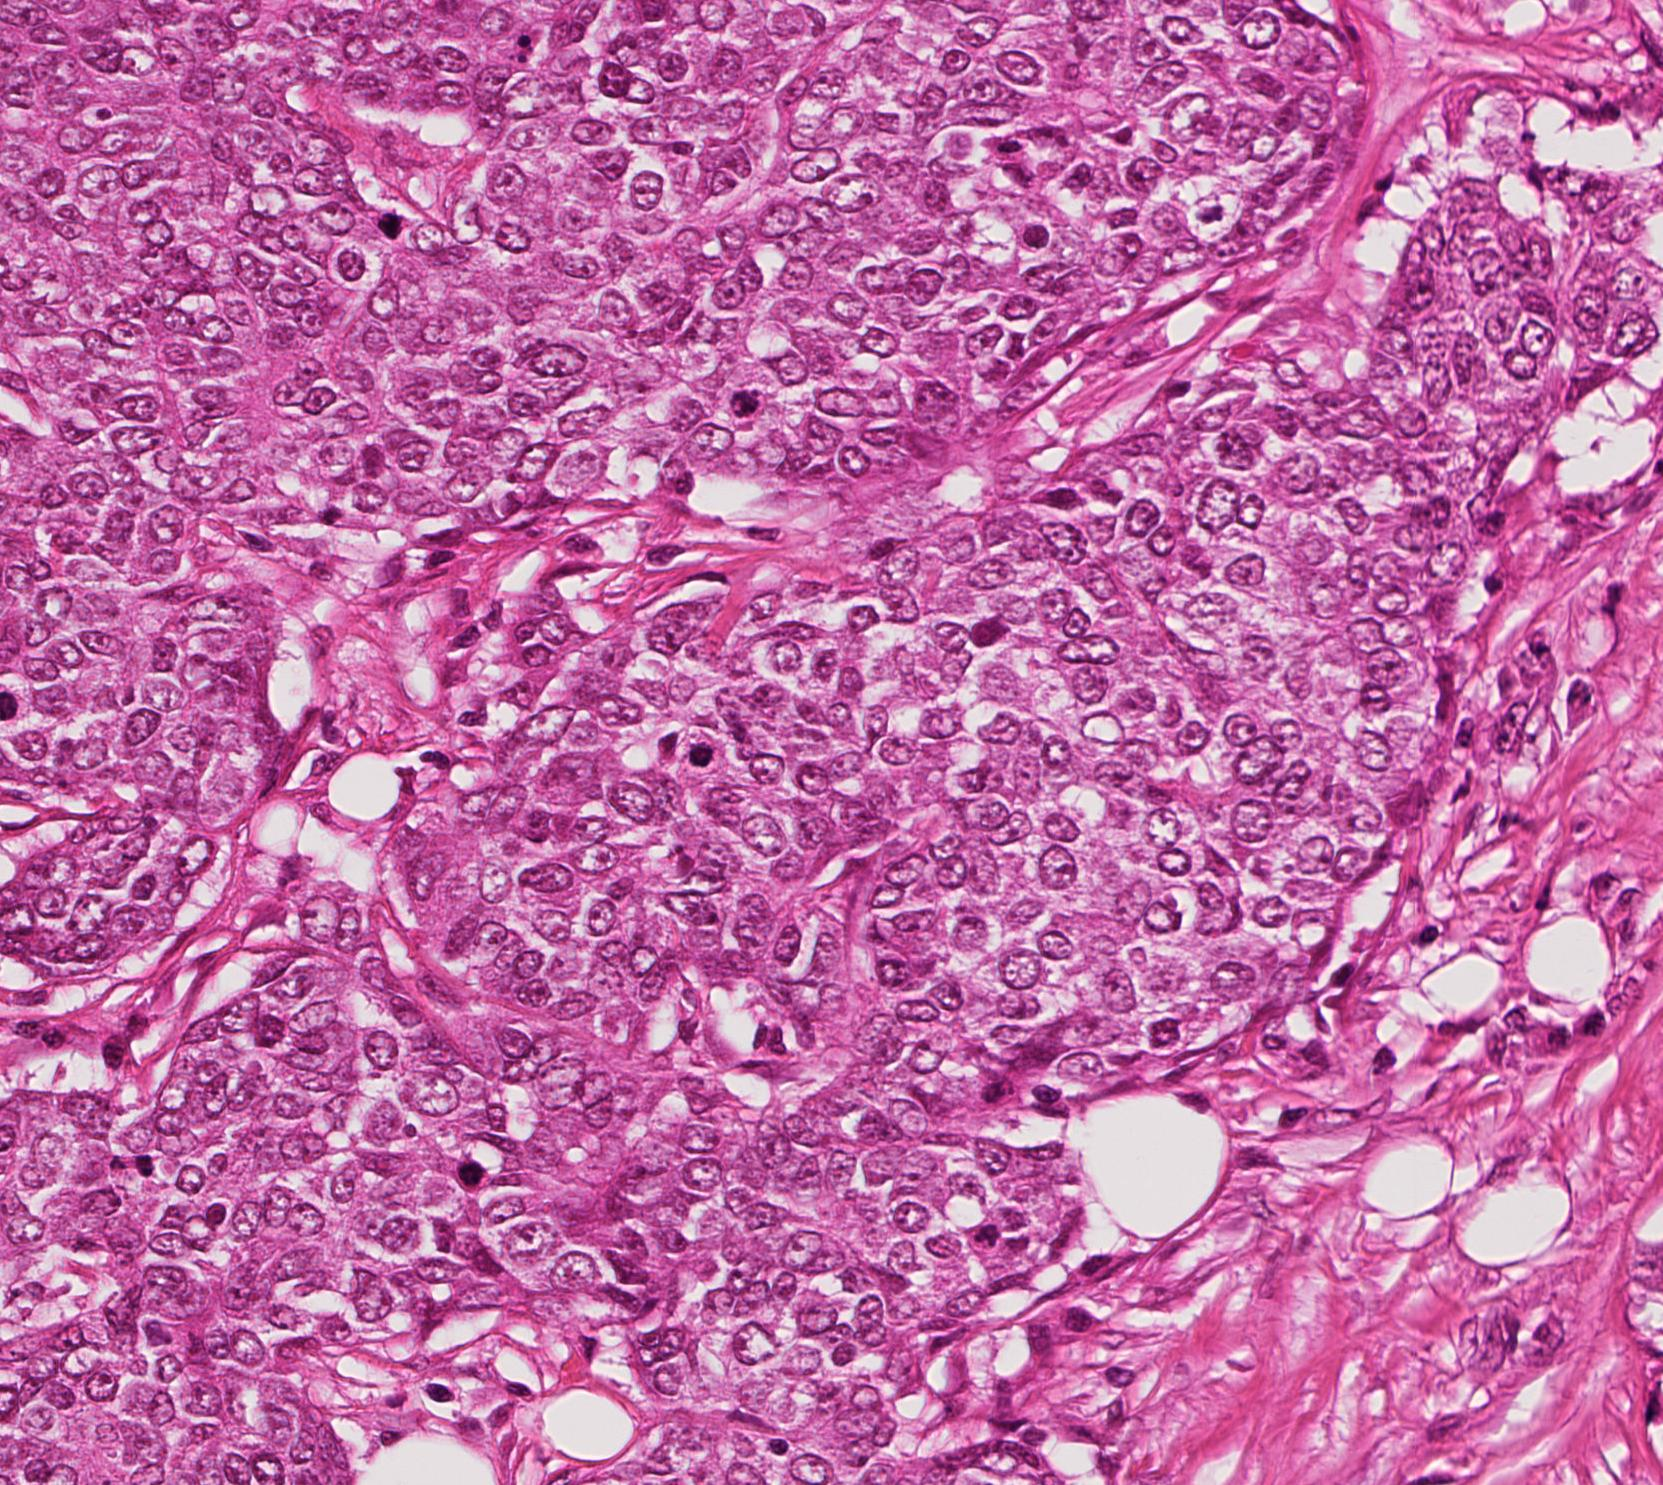mitosis: (674, 725, 734, 786)
